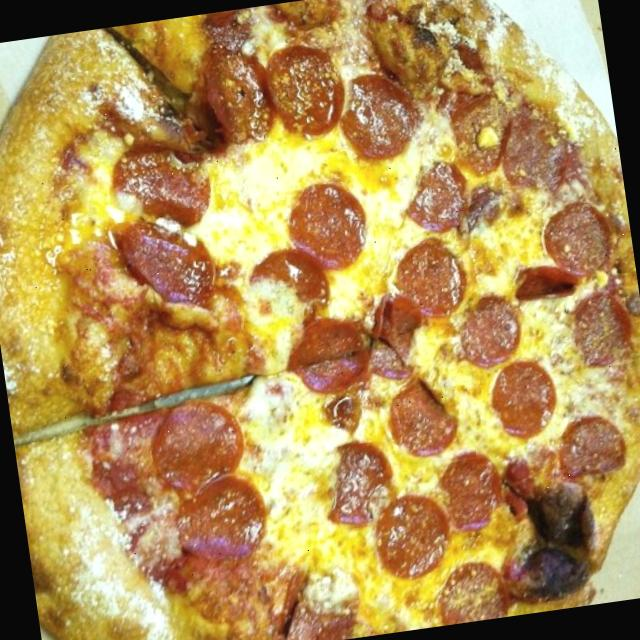pepperoni: (93, 131, 231, 236), (127, 392, 256, 501), (164, 468, 288, 578), (112, 206, 227, 320), (266, 172, 378, 280), (186, 31, 284, 154), (432, 449, 547, 541), (480, 105, 584, 202), (365, 476, 460, 582), (528, 192, 633, 284), (334, 61, 424, 167), (282, 310, 382, 404), (390, 147, 491, 240), (381, 231, 478, 326), (236, 245, 338, 335), (372, 384, 477, 471), (258, 38, 346, 140), (554, 279, 640, 375), (272, 562, 369, 640), (486, 354, 568, 445), (440, 290, 537, 366), (448, 86, 520, 182), (361, 282, 427, 386), (328, 439, 401, 529), (551, 408, 633, 487), (430, 556, 517, 626), (504, 258, 582, 314)
pizza: (0, 0, 640, 640)
